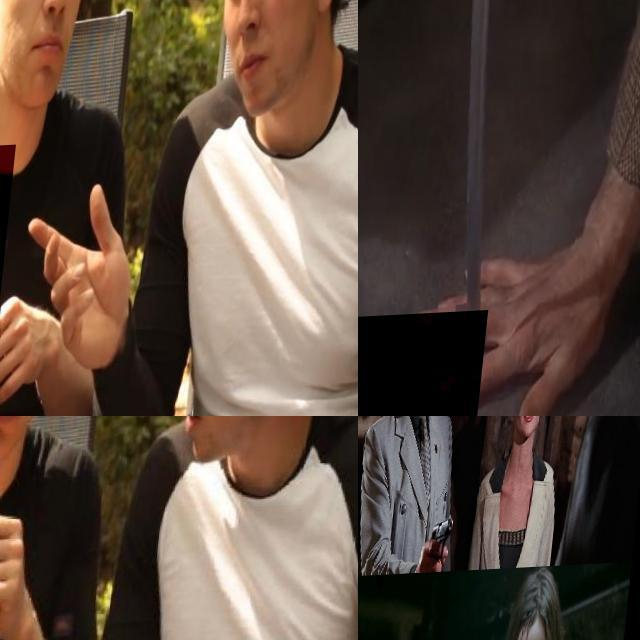-: (0, 146, 56, 351)
gun-knife-thesis - v11 Yolov5 augmented: (358, 314, 503, 416), (358, 416, 428, 543), (423, 516, 460, 576)
